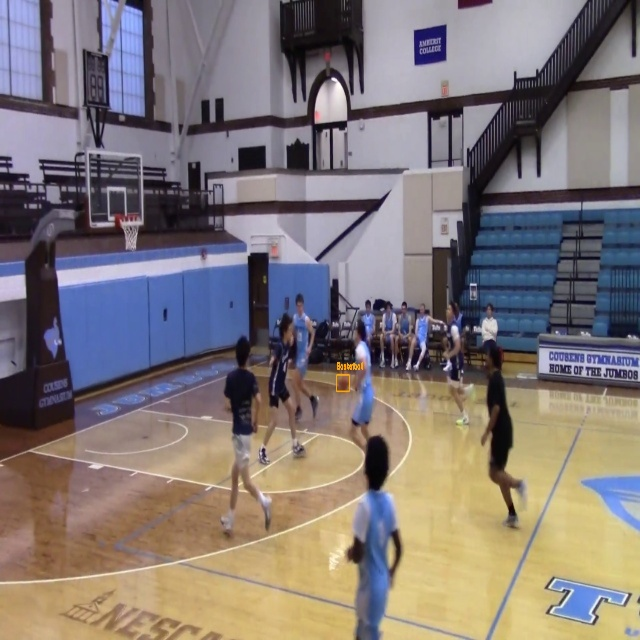Basketball: (337, 375, 349, 391)
